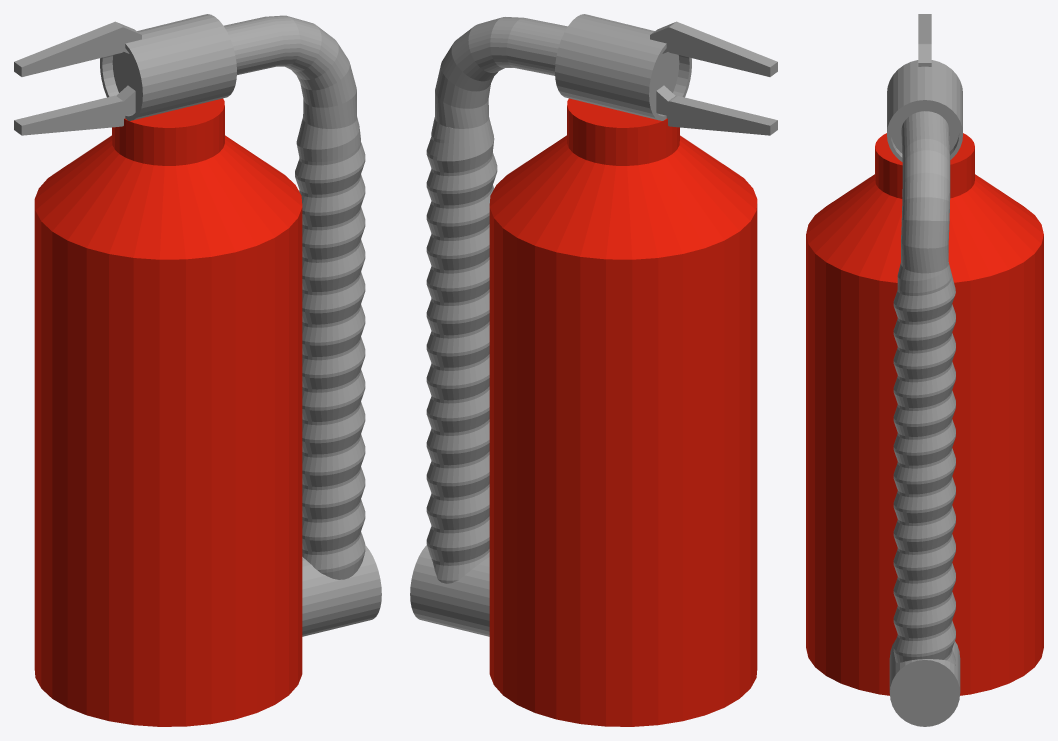
Rendered from yangıntüpüm.fbx.
3 views of the same model, side by side, from view 1: azimuth 30°, elevation 25°; view 2: azimuth 150°, elevation 25°; view 3: azimuth 270°, elevation 25° (orthographic). The views are drawn at different scales.
Parts seen in each view (by area): view 1: Cube.001; view 2: Cube.001; view 3: Cube.001.
Part boxes in pixels (x1,y1,x2,y2): Cube.001: (14,14,381,726); Cube.001: (410,14,777,726); Cube.001: (806,14,1043,726).
Size of the model in its own units: 34.9 by 63.76 by 23.58.
